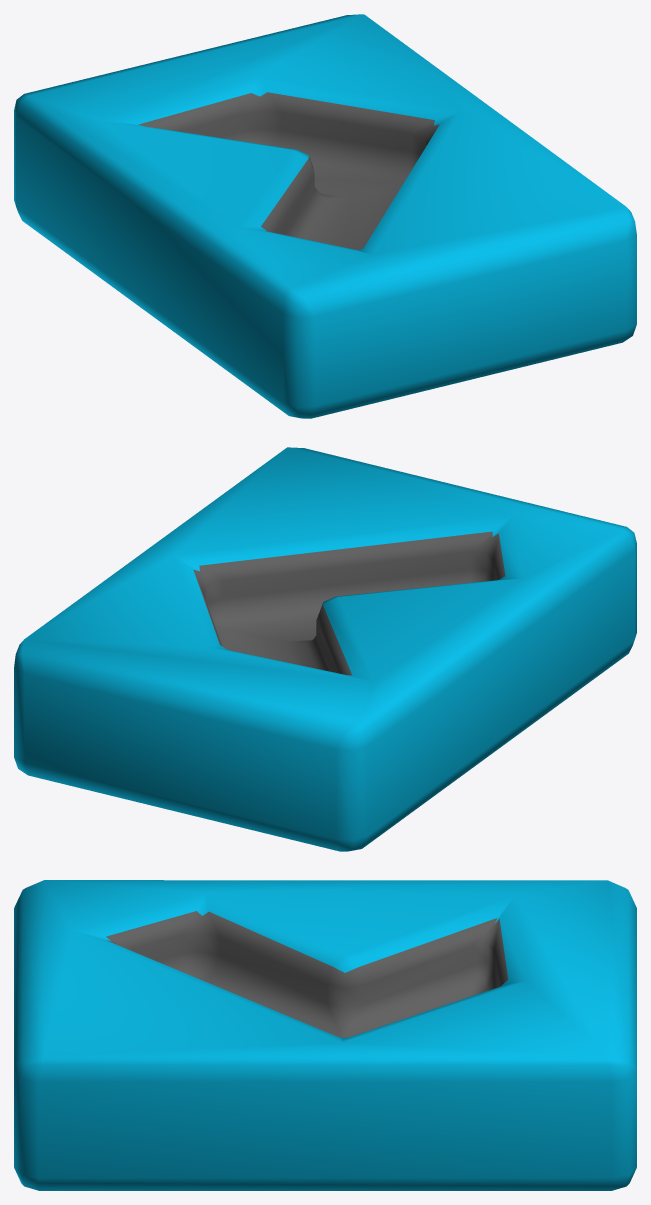
Rendered from start.glb.
3 views of the same model, one above another, from view 1: azimuth 30°, elevation 25°; view 2: azimuth 150°, elevation 25°; view 3: azimuth 270°, elevation 25° (orthographic). The views are drawn at different scales.
Parts seen in each view (by area): view 1: Cube; view 2: Cube; view 3: Cube.
Boxes of the visible parts, <box> form: Cube: <box>14,14,636,418</box>; Cube: <box>14,447,636,851</box>; Cube: <box>14,880,636,1190</box>.
Size of the model in its own units: 0.35 by 0.125 by 0.5.
